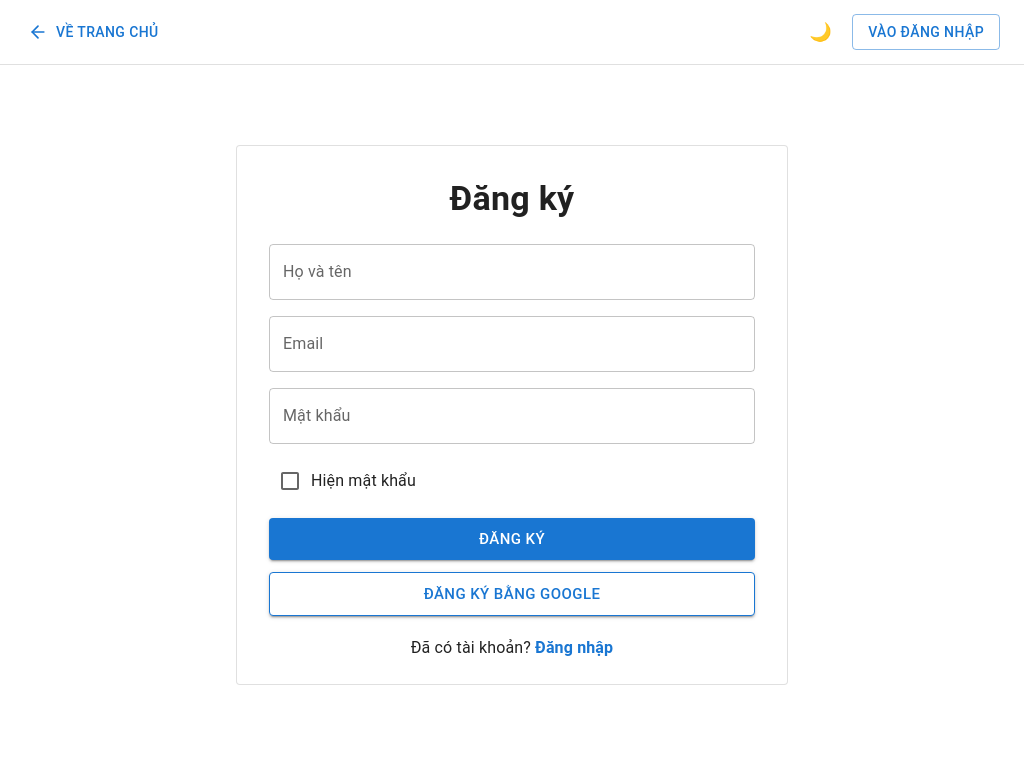
Scenario: RegisterPage › shows error for invalid email format
Type "Nguyễn Văn A" into the field labelled "Họ và tên" at (512, 272), box [269, 244, 755, 300]
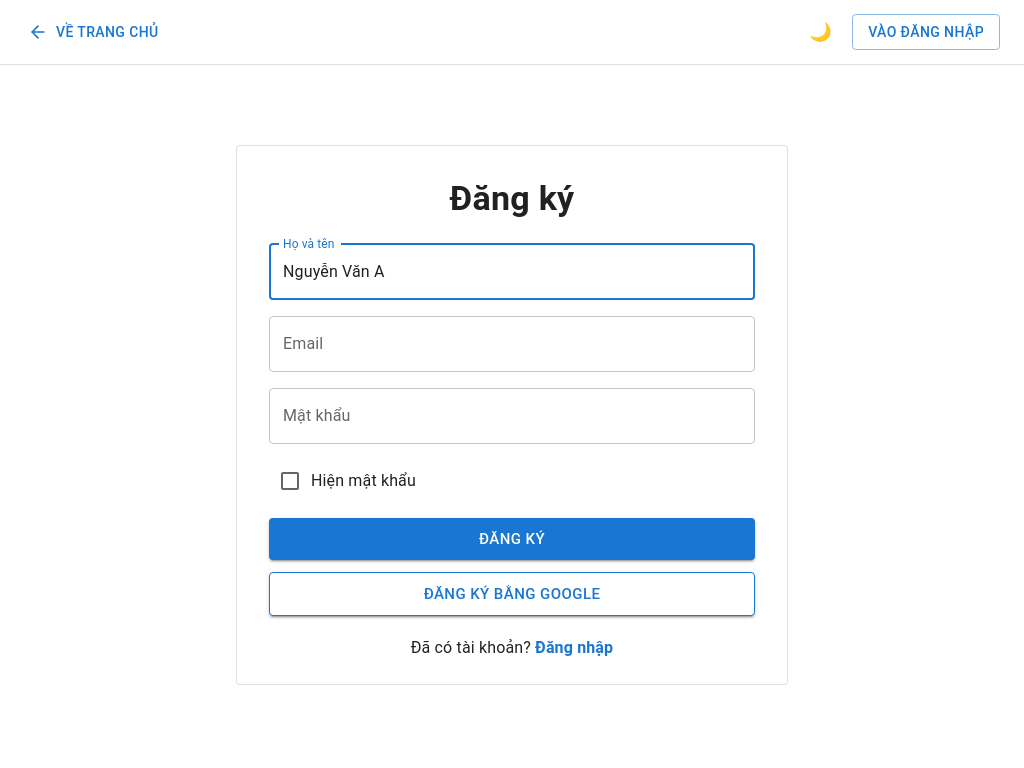
Type "not-an-email" into the field labelled "Email" at (512, 344), box [269, 316, 755, 372]
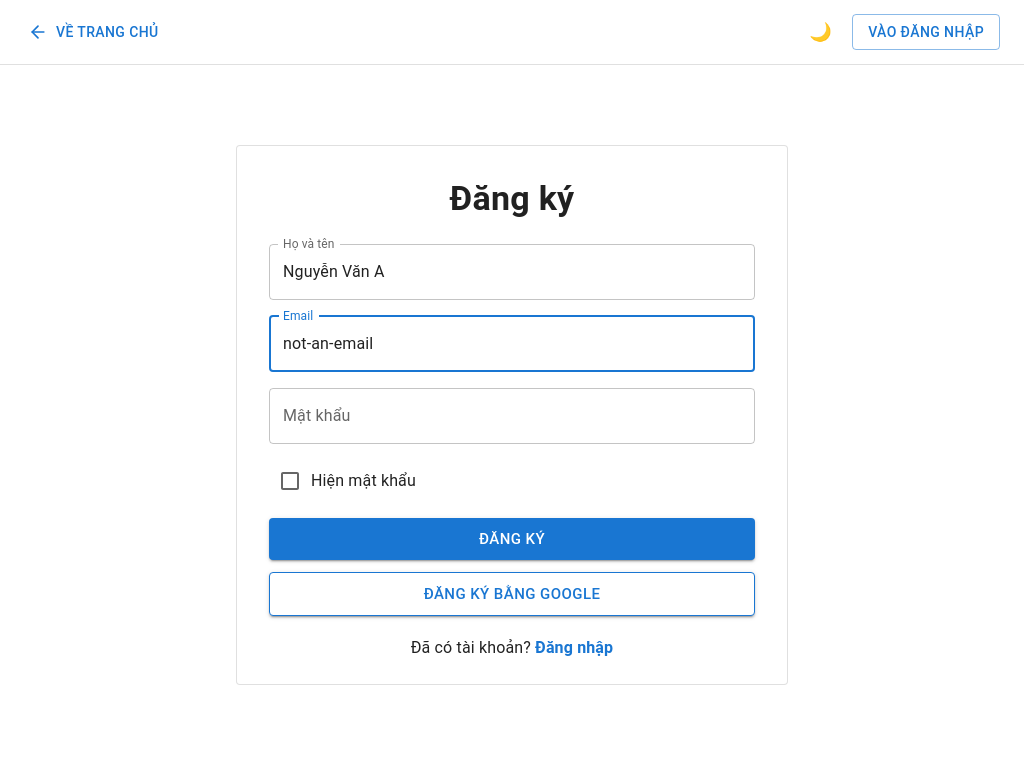
Type "password123" into the password field labelled "Mật khẩu" at (512, 416), box [269, 388, 755, 444]
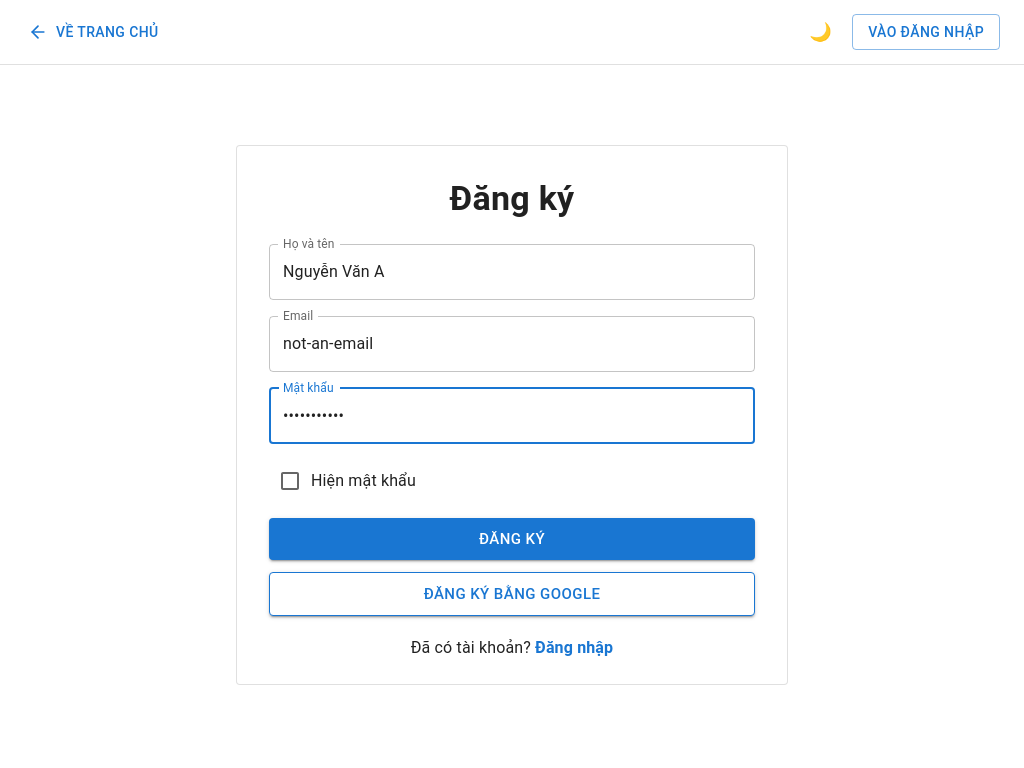
Click the button "Đăng ký" at (512, 539), box [269, 518, 755, 560]
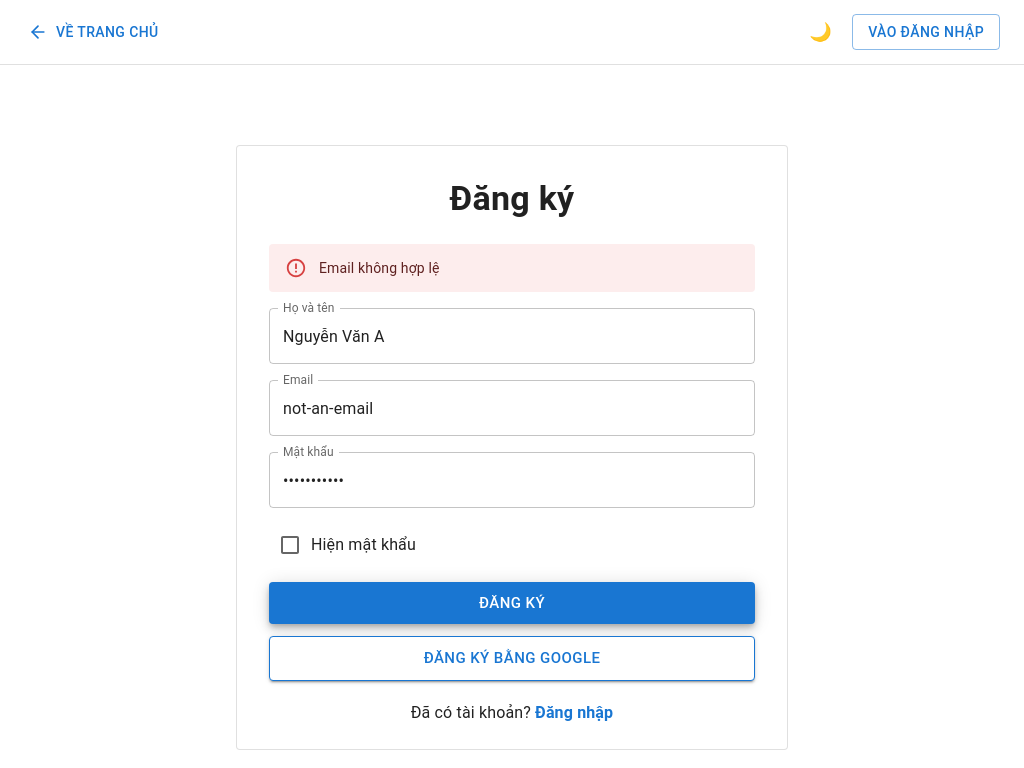
Expected: the message reads "Email không hợp lệ", [319, 260, 440, 276]
